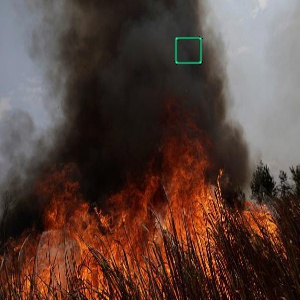square: (173, 37, 202, 65)
